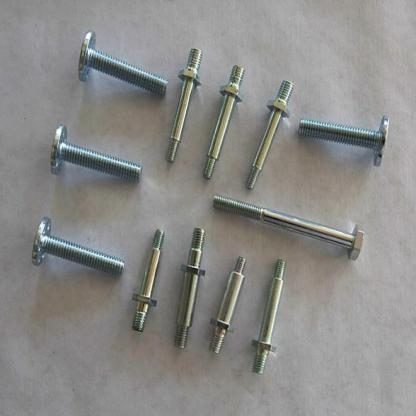FOD: (210, 192, 364, 262), (77, 28, 170, 99), (30, 218, 126, 279), (49, 123, 143, 185), (297, 111, 392, 169)
